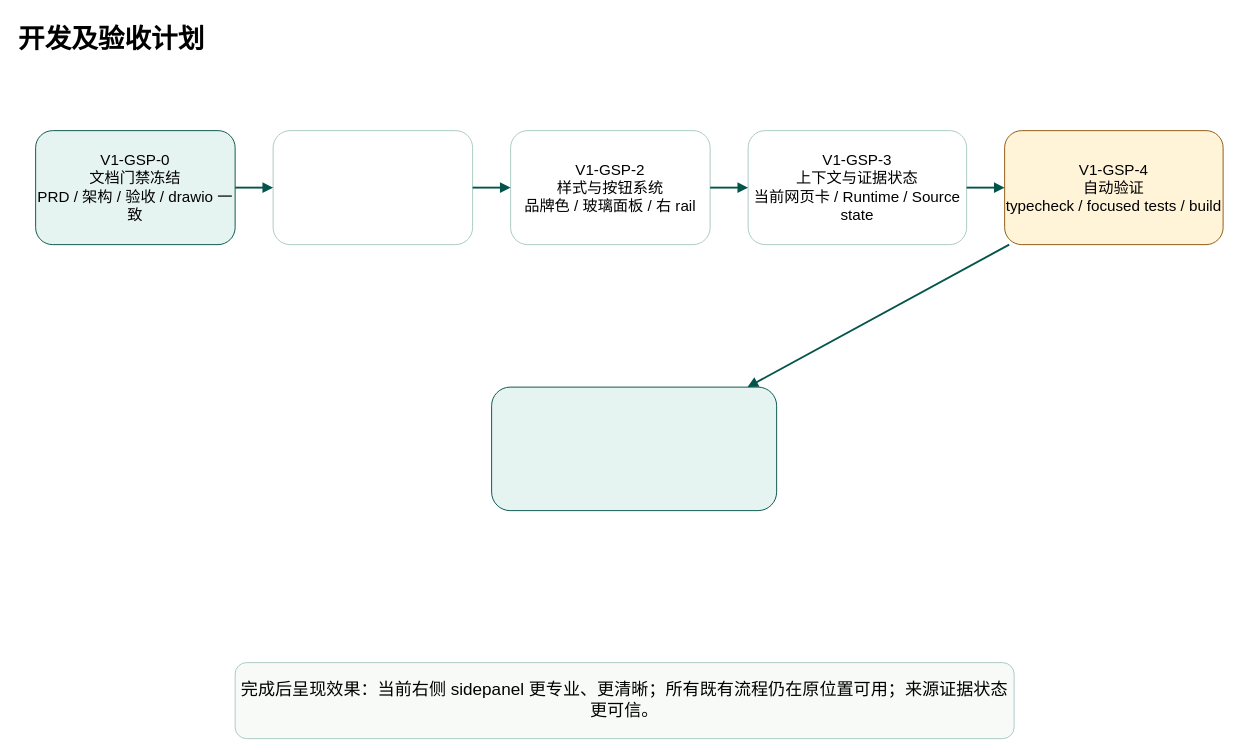
Image size: 1240x755. Some labels were removed from this diagram. The centre of each missing label's shape, as x and y in pixels:
"V1-GSP-1 Gemini 资产落盘 审查 HTML 可打开" goes at pixel 372 187.
"V1-GSP-5 真实 Chrome 验收 截图 / PRD review / false-green audit" goes at pixel 634 448.
